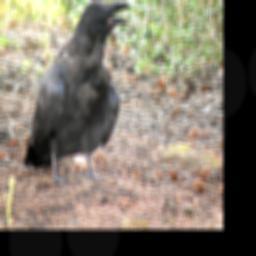Crow: (21, 0, 132, 189)
